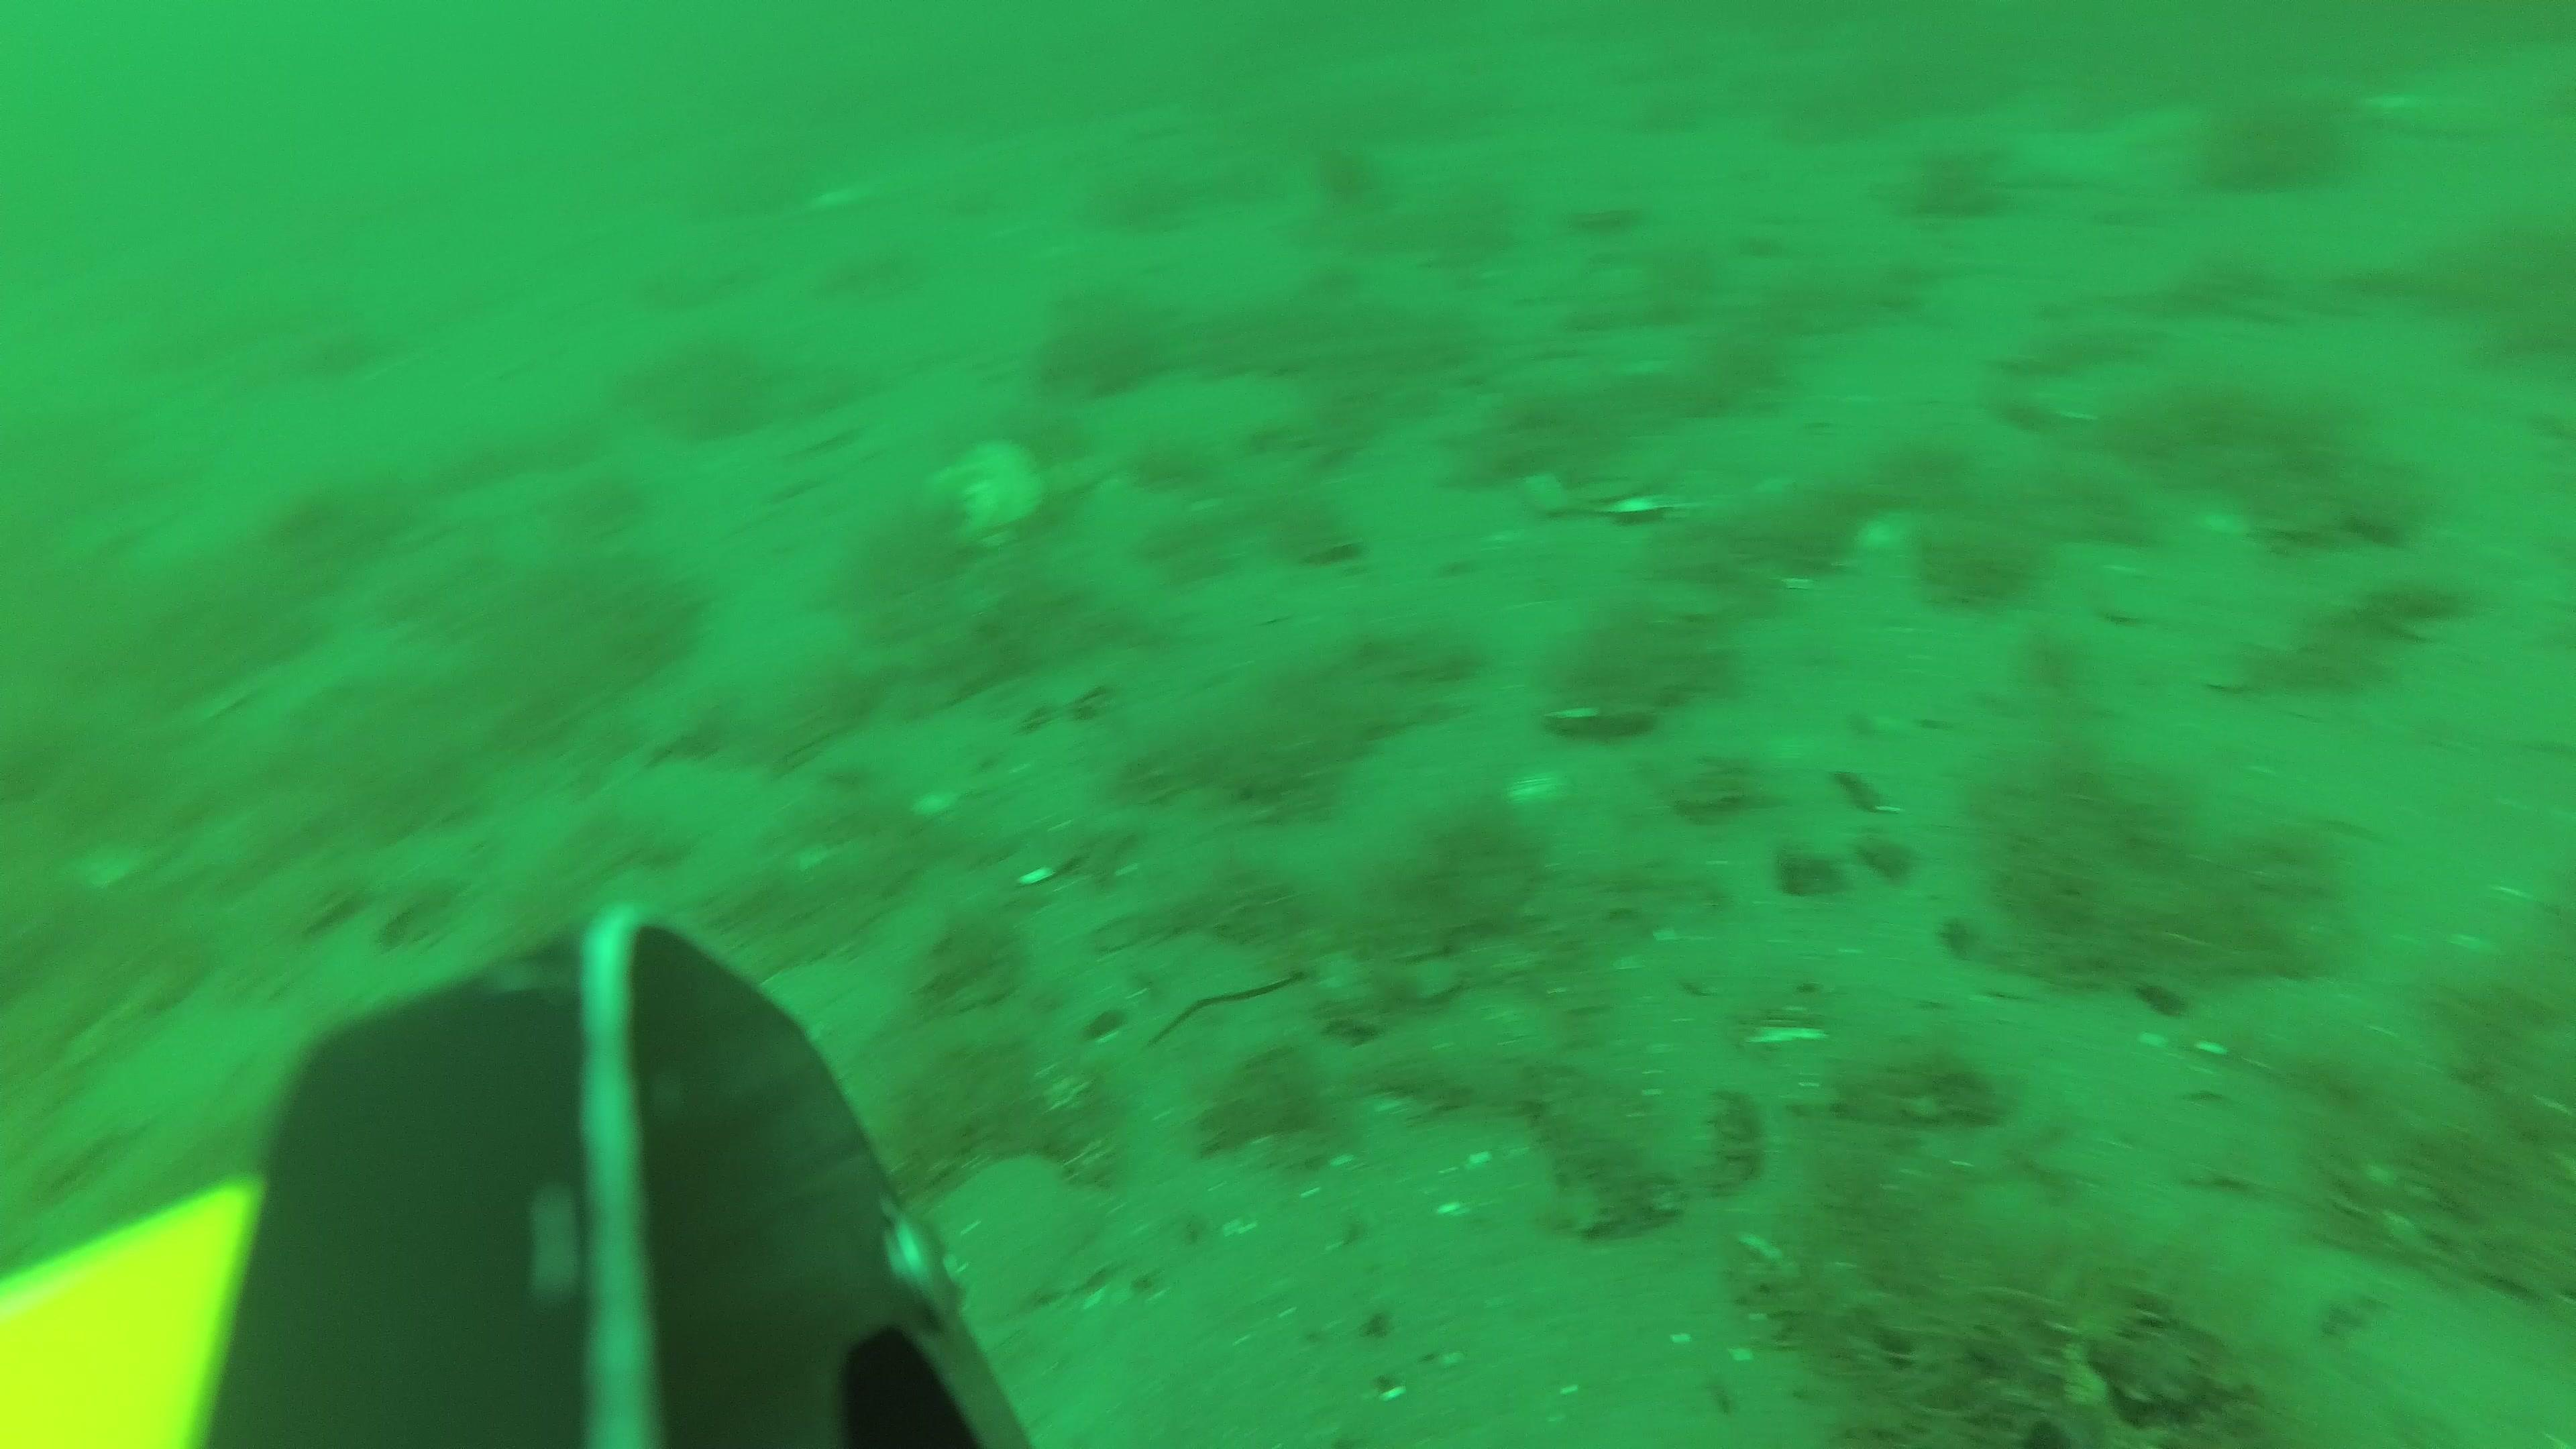scallop: (924, 1152, 1113, 1316), (1516, 446, 1691, 517), (924, 439, 1042, 543)
starfish: (1999, 122, 2143, 189)
